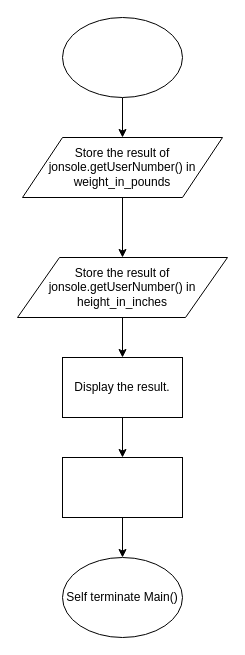
Some shapes in this 245 by 655 pixel diagram are drawn without their labels. Each missing label, with the centre of its shape:
Call Main(): the point at 122,57
Display helpful static text.: the point at 122,487
